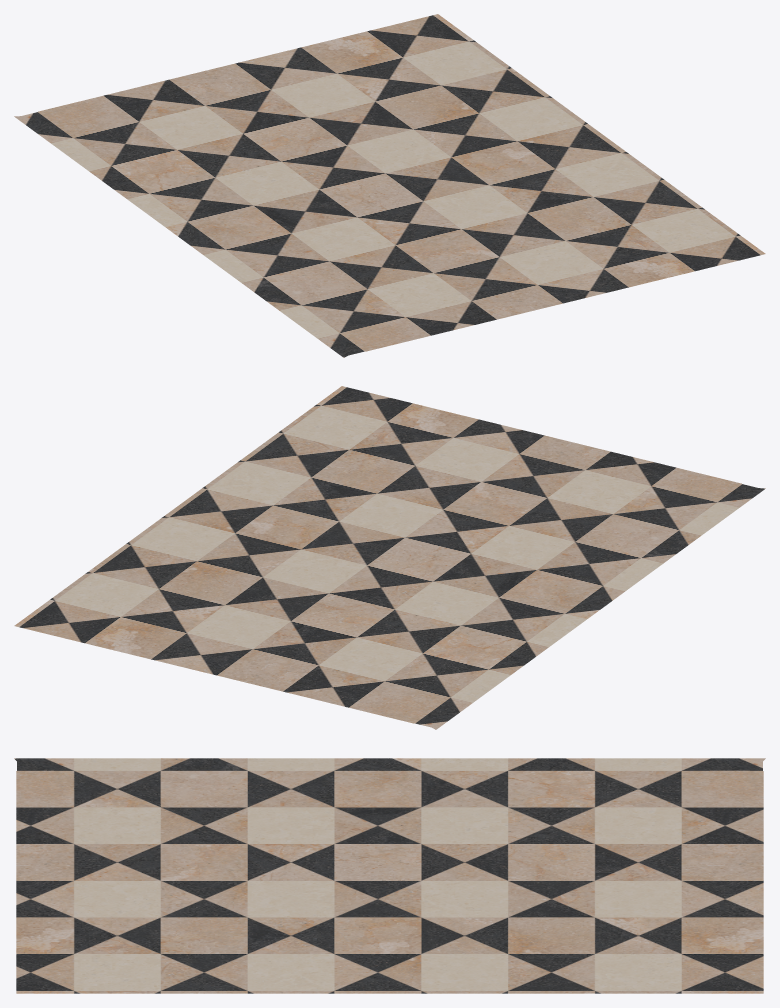
File: floor.fbx
3 views of the same model, one above another, from view 1: azimuth 30°, elevation 25°; view 2: azimuth 150°, elevation 25°; view 3: azimuth 270°, elevation 25° (orthographic). The views are drawn at different scales.
Parts seen in each view (by area): view 1: Material2.001; view 2: Material2.001; view 3: Material2.001.
Part boxes in pixels (box(x1,y1,x2,y2)): Material2.001: box(14, 14, 765, 357); Material2.001: box(14, 386, 765, 729); Material2.001: box(14, 758, 765, 993).
Size of the model in its own units: 891 by 0.000469 by 1204.
Materials: 1 (1 with a texture image).
